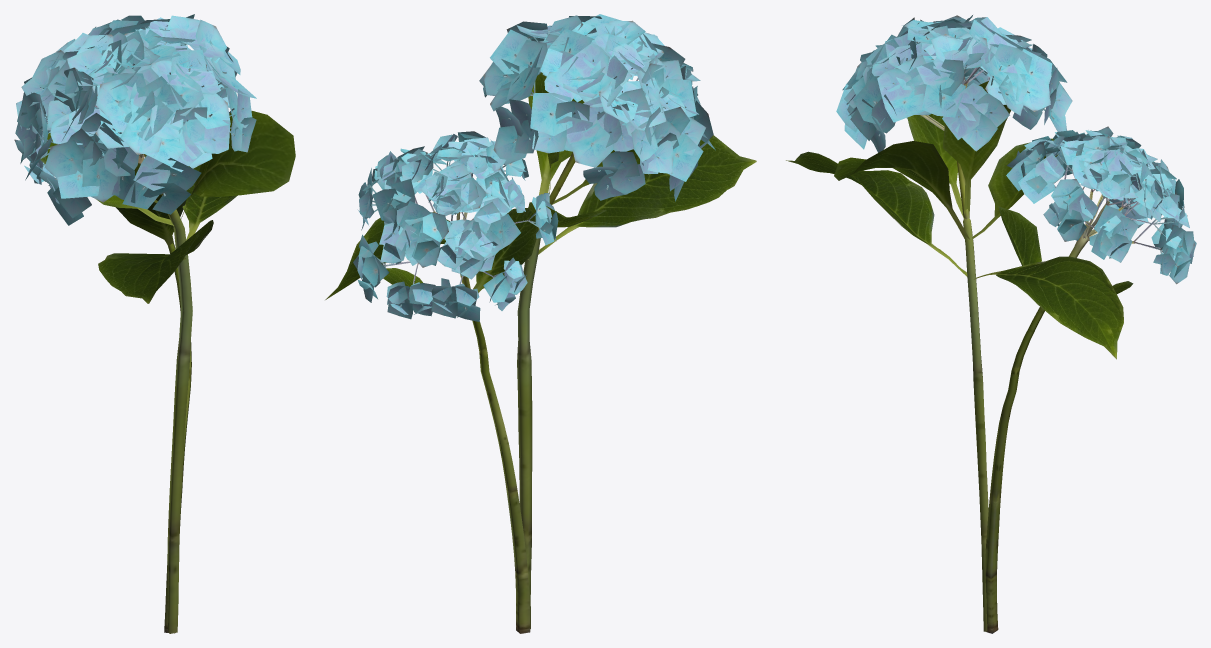
Rendered from Hydrangea_bush_short_cyan.glb.
3 views of the same model, side by side, from view 1: azimuth 30°, elevation 25°; view 2: azimuth 150°, elevation 25°; view 3: azimuth 270°, elevation 25° (orthographic). The views are drawn at different scales.
Parts seen in each view (by area): view 1: BUSHEKK; view 2: BUSHEKK; view 3: BUSHEKK.
Part boxes in pixels (x1,y1,x2,y2): BUSHEKK: [14, 14, 295, 633]; BUSHEKK: [325, 14, 756, 633]; BUSHEKK: [786, 15, 1196, 633].
Size of the model in its own units: 1.48 by 2.94 by 1.87.
Materials: 1 (1 with a texture image).
